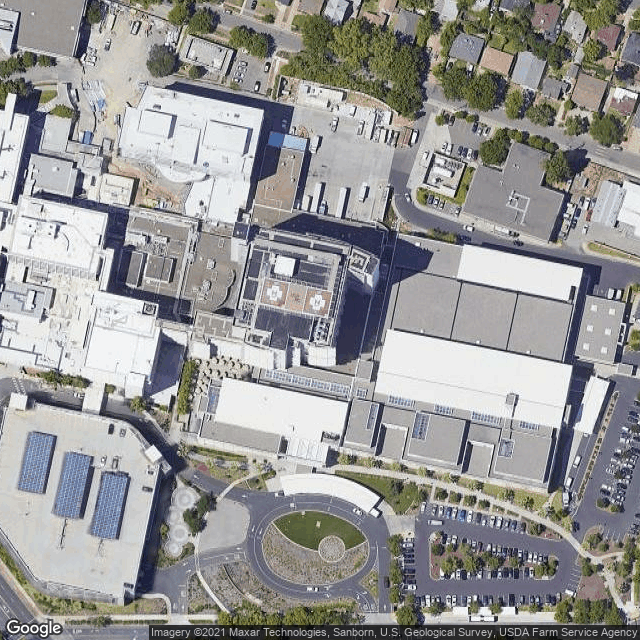Helipad: (257, 272, 292, 313), (297, 281, 333, 320)
